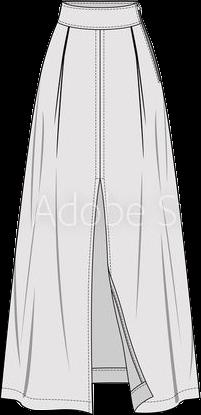Hemline: (0, 179, 197, 414)
Waistline: (56, 19, 142, 32), (59, 0, 136, 9)
